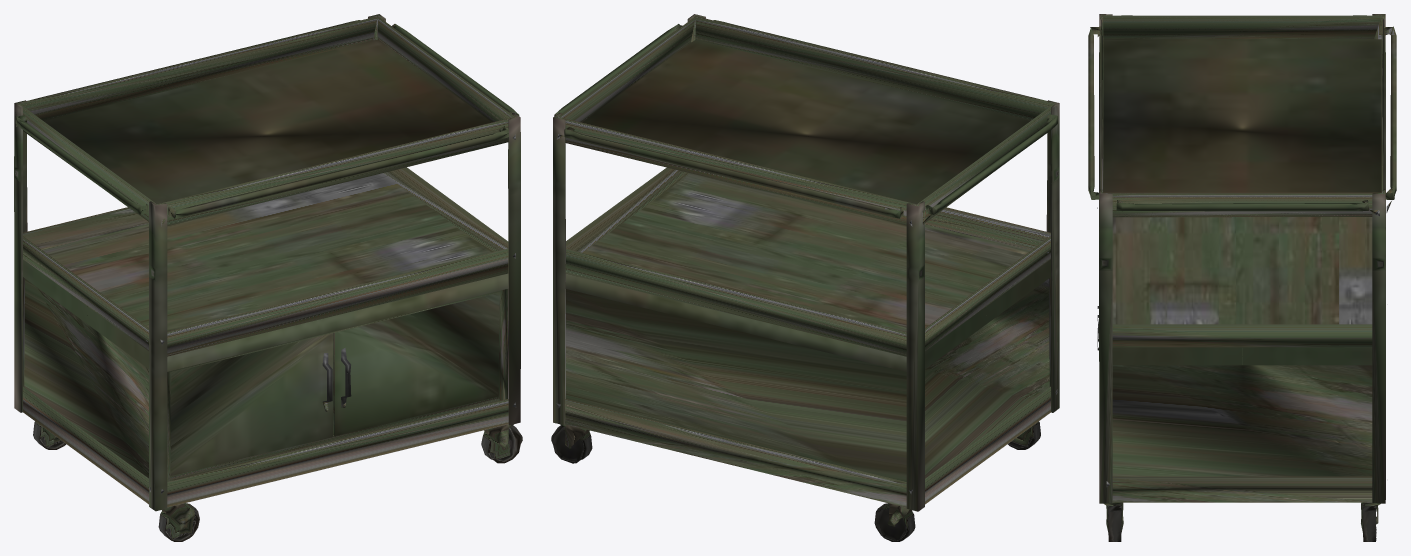
File: cart-industrial.lite.4fd86861.glb
3 renders of one model, left to right at view 1: azimuth 30°, elevation 25°; view 2: azimuth 150°, elevation 25°; view 3: azimuth 270°, elevation 25°, orthographic.
Visible parts, largest first — view 1: model; view 2: model; view 3: model.
Boxes of the visible parts, box(x1,y1,x2,y2) form: model: box(14, 14, 522, 541); model: box(551, 14, 1059, 541); model: box(1088, 14, 1396, 541).
Bounding box in the file's own units: 1.6 × 1.38 × 1.09.
1 material, 1 textured.
